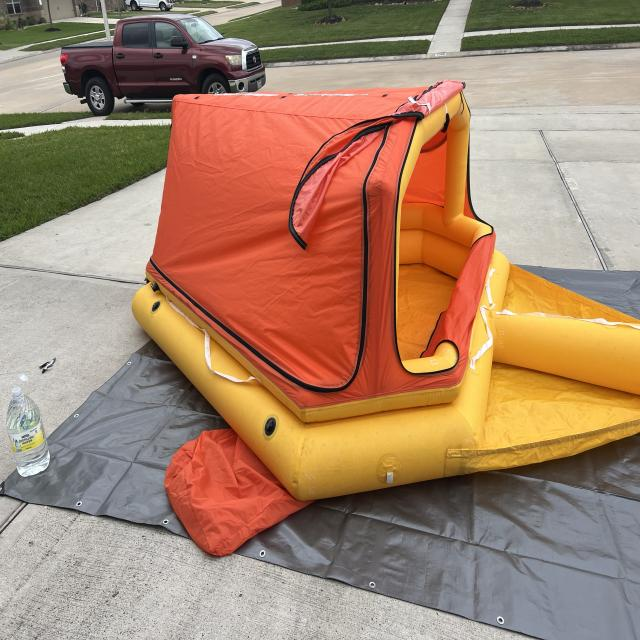Multi-person_life_raft: (132, 78, 640, 556)
